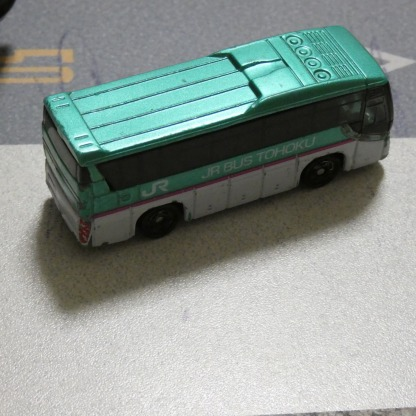car: (34, 28, 389, 249)
